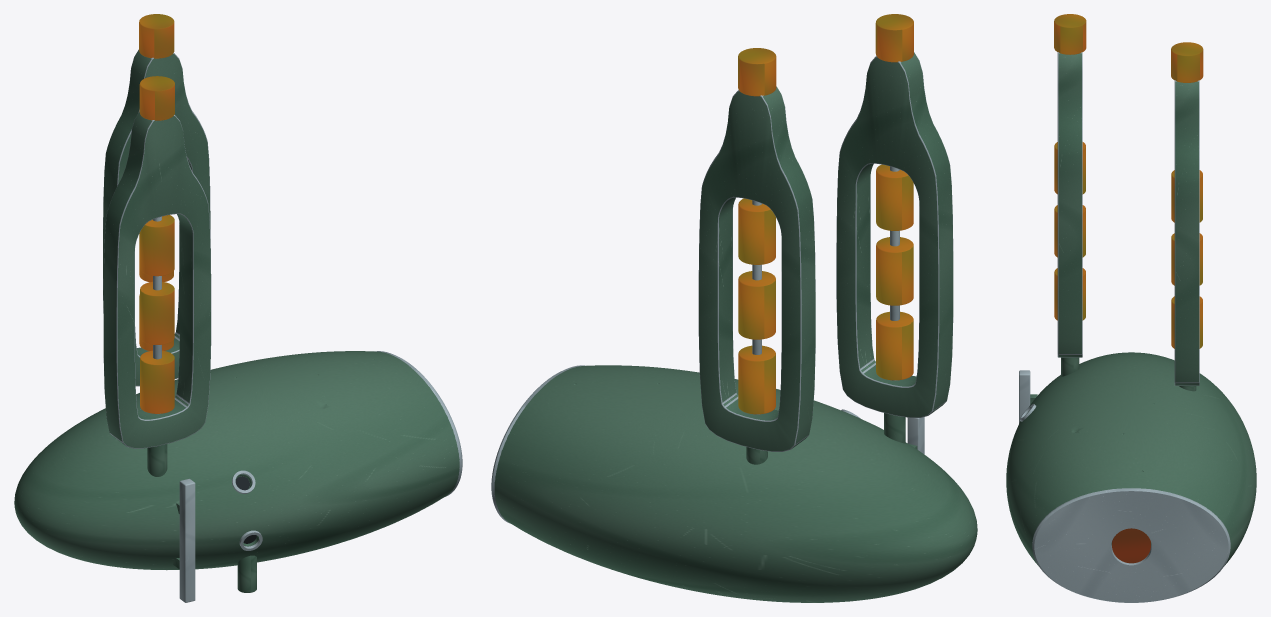
The picture shows the model from 3 angles, left to right: view 1: azimuth 30°, elevation 25°; view 2: azimuth 150°, elevation 25°; view 3: azimuth 270°, elevation 25°; orthographic projection. The views are drawn at different scales.
Visible parts, largest first — view 1: Force Fields low rounded green housing, Force Fields open green capsule frame 0, Force Fields open green capsule frame 1, Force Fields pale front vertical rail, Force Fields amber segment 0 0, Force Fields amber segment 0 1, Force Fields amber segment 0 2, Force Fields gold tip cap 1, Force Fields gold tip cap 0, Force Fields short lower toe, Force Fields seated capsule stalk 0, Force Fields broad pale circular face; view 2: Force Fields low rounded green housing, Force Fields open green capsule frame 1, Force Fields open green capsule frame 0, Force Fields amber segment 1 1, Force Fields amber segment 1 0, Force Fields amber segment 0 1, Force Fields amber segment 0 0, Force Fields amber segment 1 2, Force Fields amber segment 0 2, Force Fields gold tip cap 1, Force Fields gold tip cap 0, Force Fields broad pale circular face; view 3: Force Fields low rounded green housing, Force Fields broad pale circular face, Force Fields open green capsule frame 0, Force Fields open green capsule frame 1, Force Fields gold tip cap 1, Force Fields gold tip cap 0, Force Fields recessed copper centre, Force Fields pale front vertical rail, Force Fields amber segment 0 0, Force Fields amber segment 0 1, Force Fields amber segment 1 0, Force Fields amber segment 1 1 (+2 smaller).
Boxes of the visible parts, x1=… form: Force Fields low rounded green housing: x1=14, y1=351, x2=459, y2=570; Force Fields open green capsule frame 0: x1=103, y1=111, x2=211, y2=448; Force Fields open green capsule frame 1: x1=103, y1=49, x2=210, y2=386; Force Fields pale front vertical rail: x1=179, y1=478, x2=195, y2=602; Force Fields amber segment 0 0: x1=140, y1=350, x2=174, y2=413; Force Fields amber segment 0 1: x1=140, y1=281, x2=174, y2=344; Force Fields amber segment 0 2: x1=140, y1=215, x2=174, y2=276; Force Fields gold tip cap 1: x1=139, y1=14, x2=174, y2=58; Force Fields gold tip cap 0: x1=139, y1=76, x2=174, y2=120; Force Fields short lower toe: x1=237, y1=555, x2=256, y2=592; Force Fields seated capsule stalk 0: x1=147, y1=444, x2=167, y2=476; Force Fields broad pale circular face: x1=374, y1=351, x2=462, y2=496; Force Fields low rounded green housing: x1=494, y1=365, x2=977, y2=602; Force Fields open green capsule frame 1: x1=698, y1=86, x2=815, y2=451; Force Fields open green capsule frame 0: x1=836, y1=52, x2=953, y2=417; Force Fields amber segment 1 1: x1=738, y1=271, x2=775, y2=339; Force Fields amber segment 1 0: x1=738, y1=345, x2=775, y2=414; Force Fields amber segment 0 1: x1=876, y1=237, x2=913, y2=305; Force Fields amber segment 0 0: x1=876, y1=311, x2=913, y2=380; Force Fields amber segment 1 2: x1=738, y1=198, x2=775, y2=264; Force Fields amber segment 0 2: x1=876, y1=164, x2=913, y2=230; Force Fields gold tip cap 1: x1=738, y1=48, x2=776, y2=96; Force Fields gold tip cap 0: x1=875, y1=14, x2=913, y2=62; Force Fields broad pale circular face: x1=491, y1=365, x2=585, y2=523; Force Fields low rounded green housing: x1=1006, y1=352, x2=1256, y2=565; Force Fields broad pale circular face: x1=1032, y1=488, x2=1230, y2=602; Force Fields open green capsule frame 0: x1=1057, y1=52, x2=1082, y2=357; Force Fields open green capsule frame 1: x1=1174, y1=80, x2=1199, y2=385; Force Fields gold tip cap 1: x1=1171, y1=42, x2=1203, y2=82; Force Fields gold tip cap 0: x1=1054, y1=14, x2=1086, y2=54; Force Fields recessed copper centre: x1=1112, y1=528, x2=1150, y2=563; Force Fields pale front vertical rail: x1=1019, y1=370, x2=1030, y2=423; Force Fields amber segment 0 0: x1=1054, y1=268, x2=1085, y2=320; Force Fields amber segment 0 1: x1=1054, y1=205, x2=1085, y2=257; Force Fields amber segment 1 0: x1=1171, y1=296, x2=1202, y2=348; Force Fields amber segment 1 1: x1=1171, y1=233, x2=1202, y2=285.
Bounding box in the file's own units: 1.47 × 1.85 × 0.9.
Materials: 5 (4 with a texture image).
